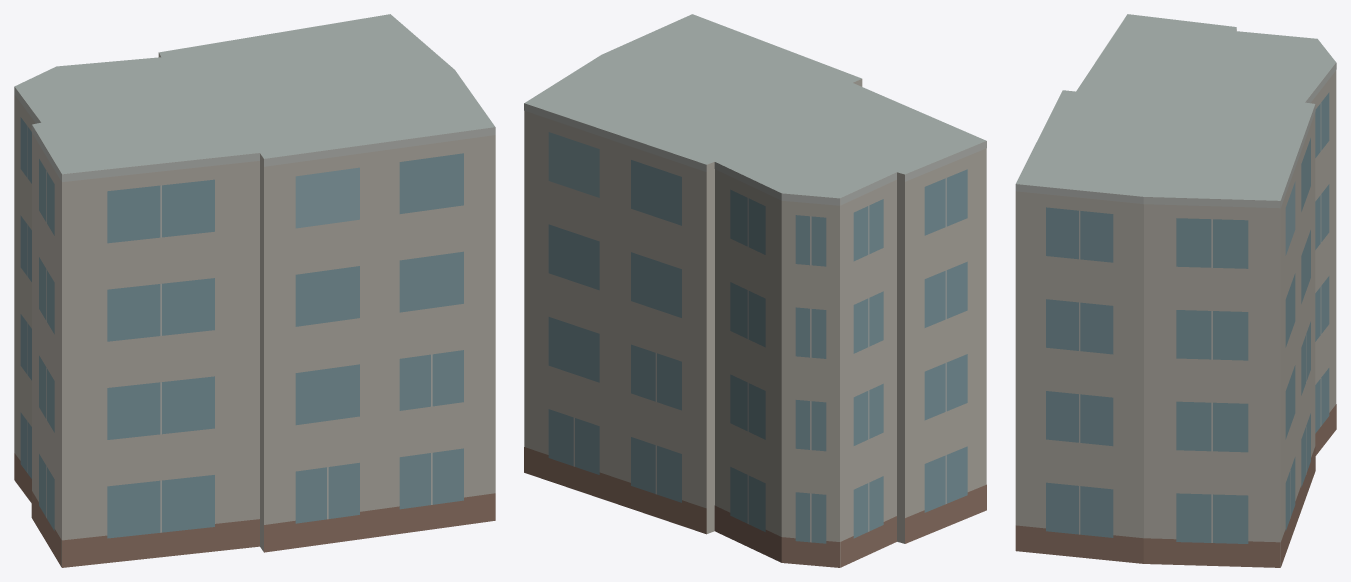
The model's file is survey-upis-32802285.glb.
3 views of the same model, side by side, from view 1: azimuth 30°, elevation 25°; view 2: azimuth 150°, elevation 25°; view 3: azimuth 270°, elevation 25° (orthographic). The views are drawn at different scales.
Visible parts, largest first — view 1: survey-upis-32802285.tmp; view 2: survey-upis-32802285.tmp; view 3: survey-upis-32802285.tmp.
Part boxes in pixels (left/top/right/bottom): survey-upis-32802285.tmp: left=14, top=14, right=495, bottom=567; survey-upis-32802285.tmp: left=524, top=14, right=986, bottom=567; survey-upis-32802285.tmp: left=1015, top=14, right=1336, bottom=567.
Bounding box in the file's own units: 13.33 × 12.2 × 9.67.
